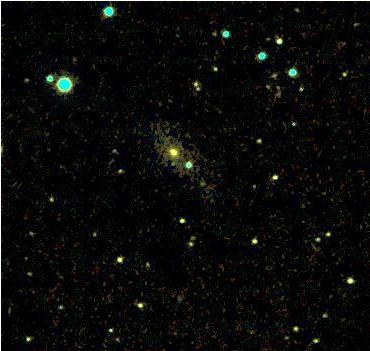star: (157, 151, 187, 181)
